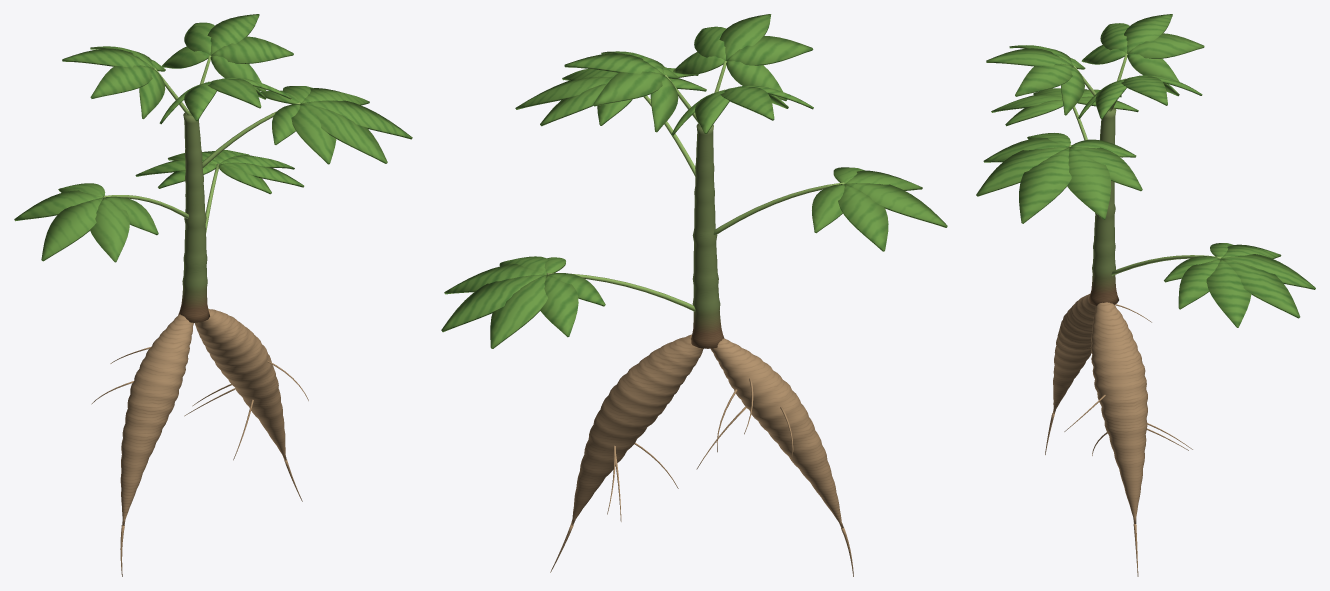
The model's file is yuca planta.fbx.
3 renders of one model, left to right at view 1: azimuth 30°, elevation 25°; view 2: azimuth 150°, elevation 25°; view 3: azimuth 270°, elevation 25°, orthographic. The views are drawn at different scales.
Visible parts, largest first — view 1: Hojas_Yuca, Raices_Yuca, Tallo_Yuca, Peciolos_Yuca; view 2: Hojas_Yuca, Raices_Yuca, Tallo_Yuca, Peciolos_Yuca; view 3: Hojas_Yuca, Raices_Yuca, Tallo_Yuca, Peciolos_Yuca.
Boxes of the visible parts, x1=… form: Hojas_Yuca: x1=14, y1=14, x2=412, y2=262; Raices_Yuca: x1=91, y1=308, x2=308, y2=576; Tallo_Yuca: x1=178, y1=113, x2=209, y2=322; Peciolos_Yuca: x1=103, y1=55, x2=300, y2=232; Hojas_Yuca: x1=441, y1=14, x2=947, y2=348; Raices_Yuca: x1=550, y1=334, x2=853, y2=576; Tallo_Yuca: x1=691, y1=123, x2=724, y2=348; Peciolos_Yuca: x1=546, y1=61, x2=844, y2=311; Hojas_Yuca: x1=976, y1=14, x2=1315, y2=327; Raices_Yuca: x1=1045, y1=293, x2=1192, y2=576; Tallo_Yuca: x1=1088, y1=107, x2=1118, y2=305; Peciolos_Yuca: x1=1069, y1=53, x2=1221, y2=275.
Bounding box in the file's own units: 64.51 × 83.21 × 55.12.
4 materials, 4 textured.
